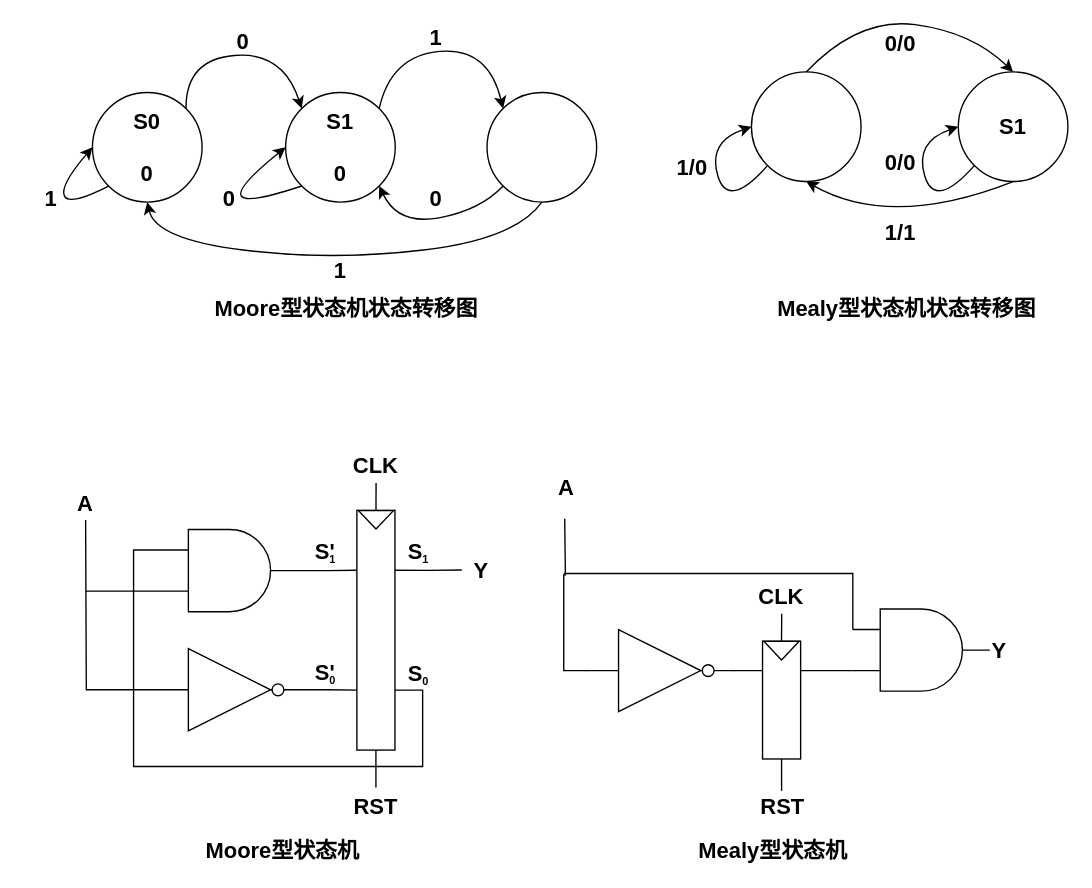
The diagram is 1092 pixels wide and 888 high, and some of its shapes have lost their labels. Here are the shapes that lost their labels. From the top down, the centre of each, then its label:
At point 541,146: "S2 1".
At point 805,126: "S0".
